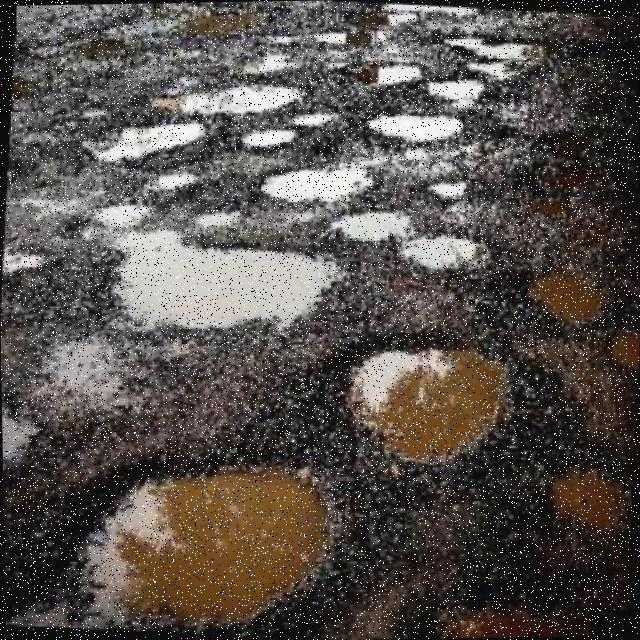Pothole: (74, 466, 330, 630), (67, 205, 335, 330), (344, 346, 511, 461), (331, 211, 476, 269), (438, 603, 606, 638), (261, 163, 379, 207), (552, 469, 630, 533), (155, 86, 307, 118), (91, 124, 206, 165), (532, 269, 604, 326), (435, 36, 524, 78), (367, 115, 463, 143), (351, 61, 426, 87), (427, 80, 485, 110), (241, 127, 300, 152), (1, 407, 27, 461), (611, 329, 640, 374), (194, 209, 241, 234), (150, 172, 199, 192), (5, 253, 45, 276), (428, 179, 467, 199), (292, 112, 338, 126)
